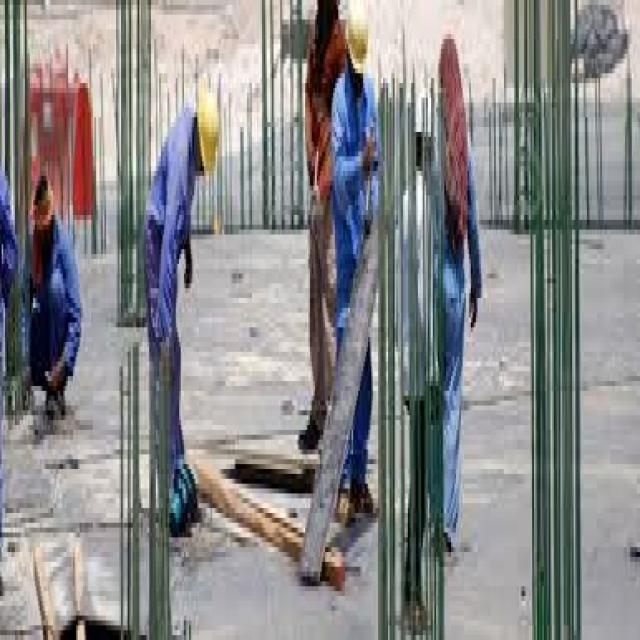Safety-Helmet: (188, 64, 225, 185), (342, 1, 374, 88), (26, 156, 59, 240)
